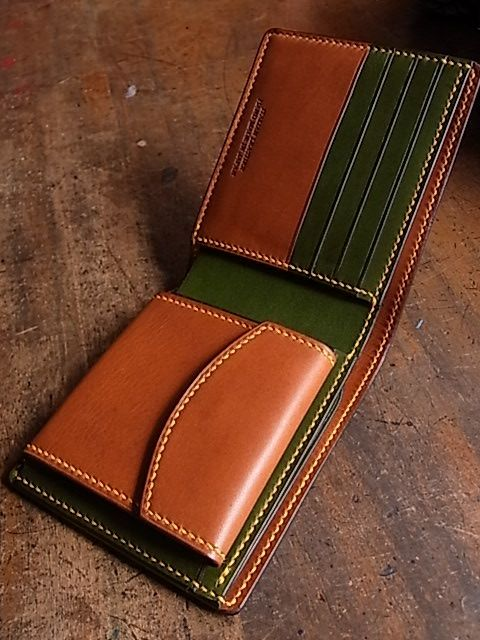monedero: (1, 27, 479, 618)
